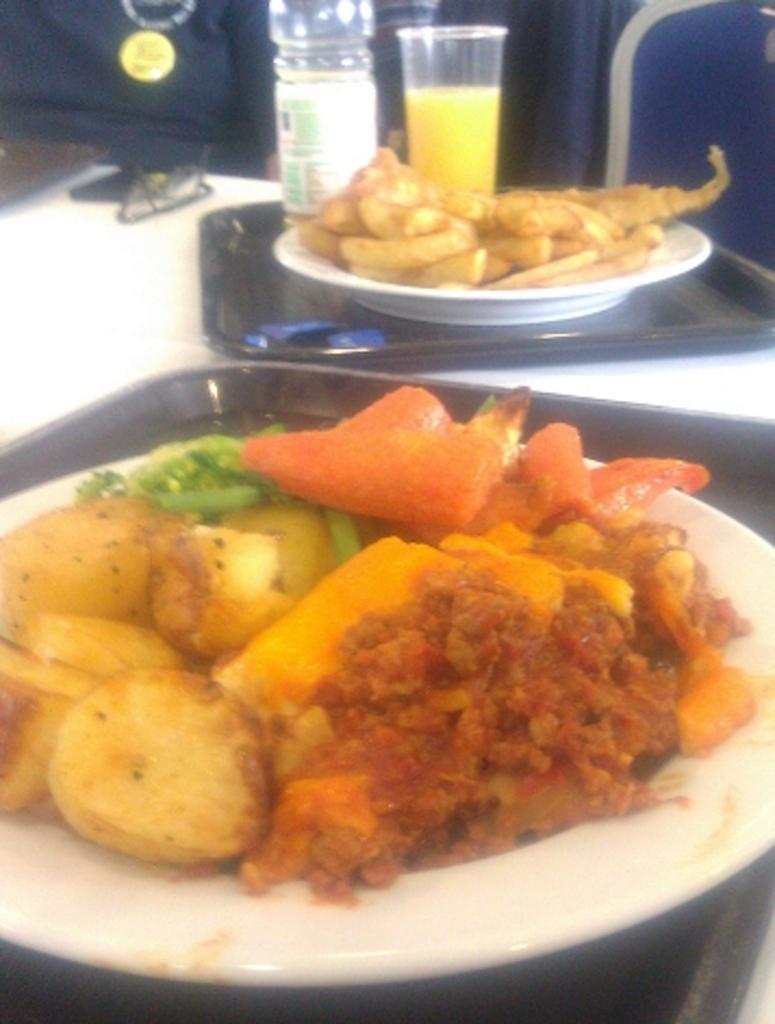French fries: (260, 141, 744, 286)
